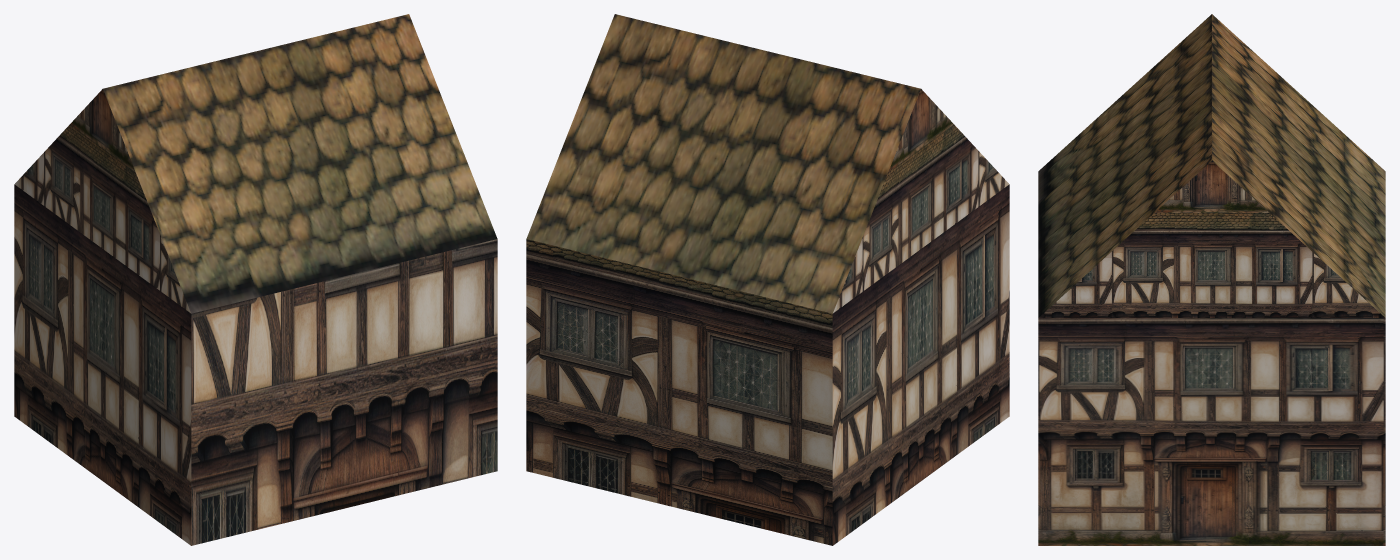
Rendered from hausSimpel01.obj.
3 renders of one model, left to right at view 1: azimuth 30°, elevation 25°; view 2: azimuth 150°, elevation 25°; view 3: azimuth 270°, elevation 25°, orthographic.
Visible parts, largest first — view 1: Cube; view 2: Cube; view 3: Cube.
Part boxes in pixels (<box>): Cube: <box>14,14,497,545</box>; Cube: <box>526,14,1009,545</box>; Cube: <box>1038,14,1385,545</box>.
Size of the model in its own units: 8 by 9.8 by 8.
